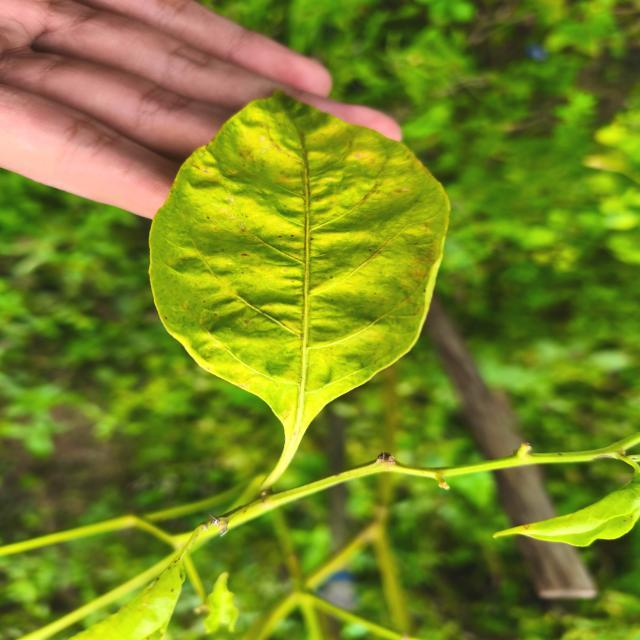Virus Kuning: (147, 90, 452, 422), (492, 454, 640, 548)
